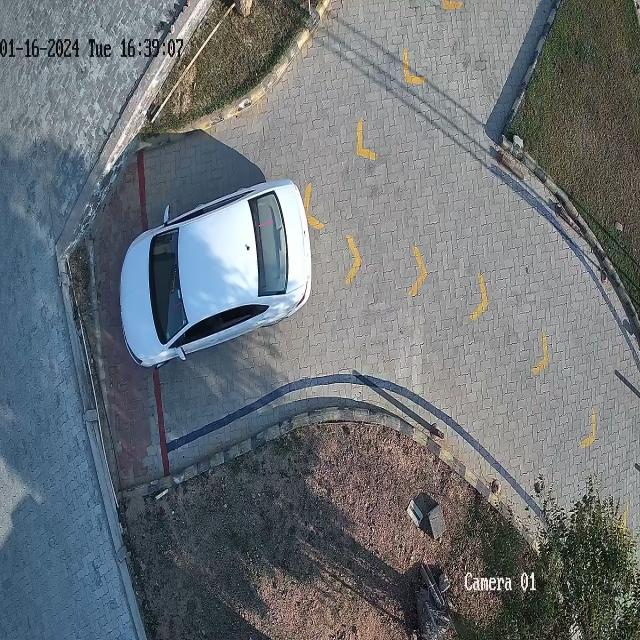car: (120, 180, 312, 366)
